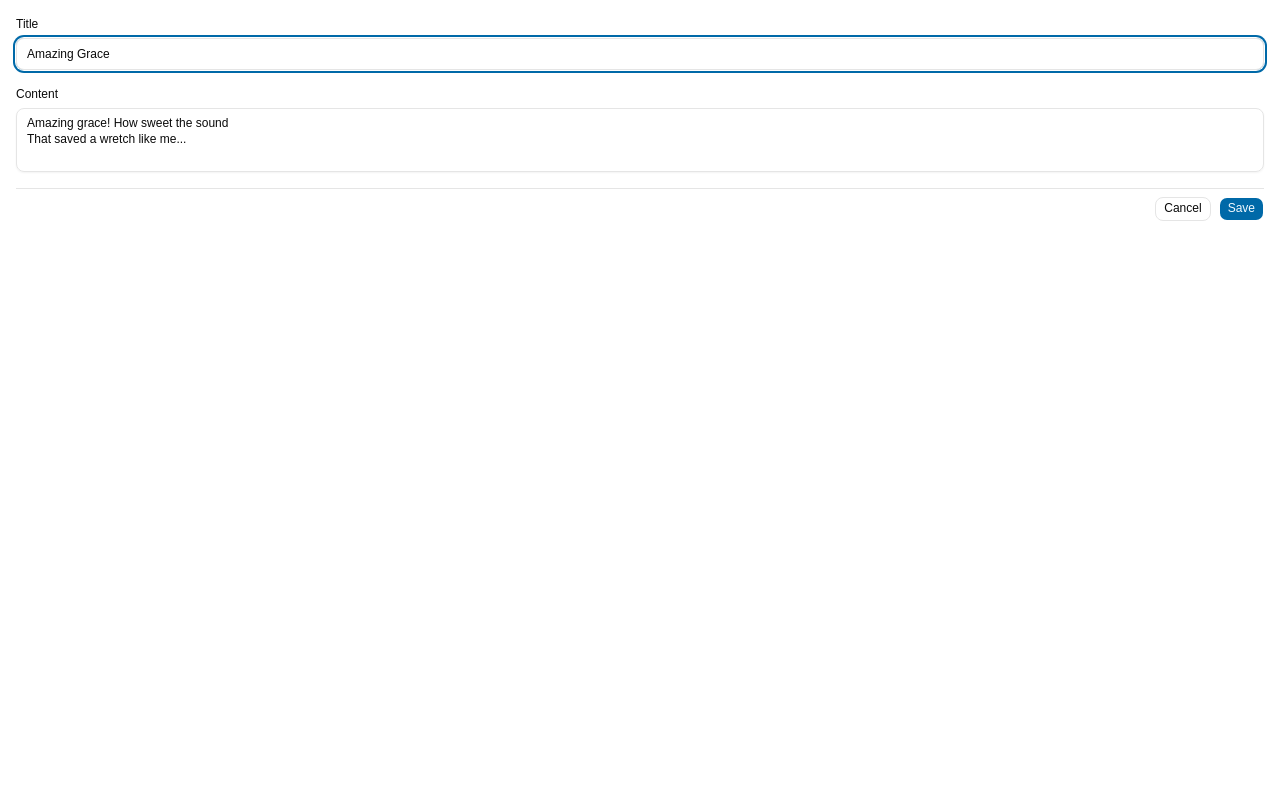
Test: PlaylistItemEditor › pressing Escape while the discard confirmation dialog is open closes the dialog and keeps the draft
Type " modified draft" into the field labelled "Title" at (640, 54), box x1=16 y1=38 x2=1264 y2=70
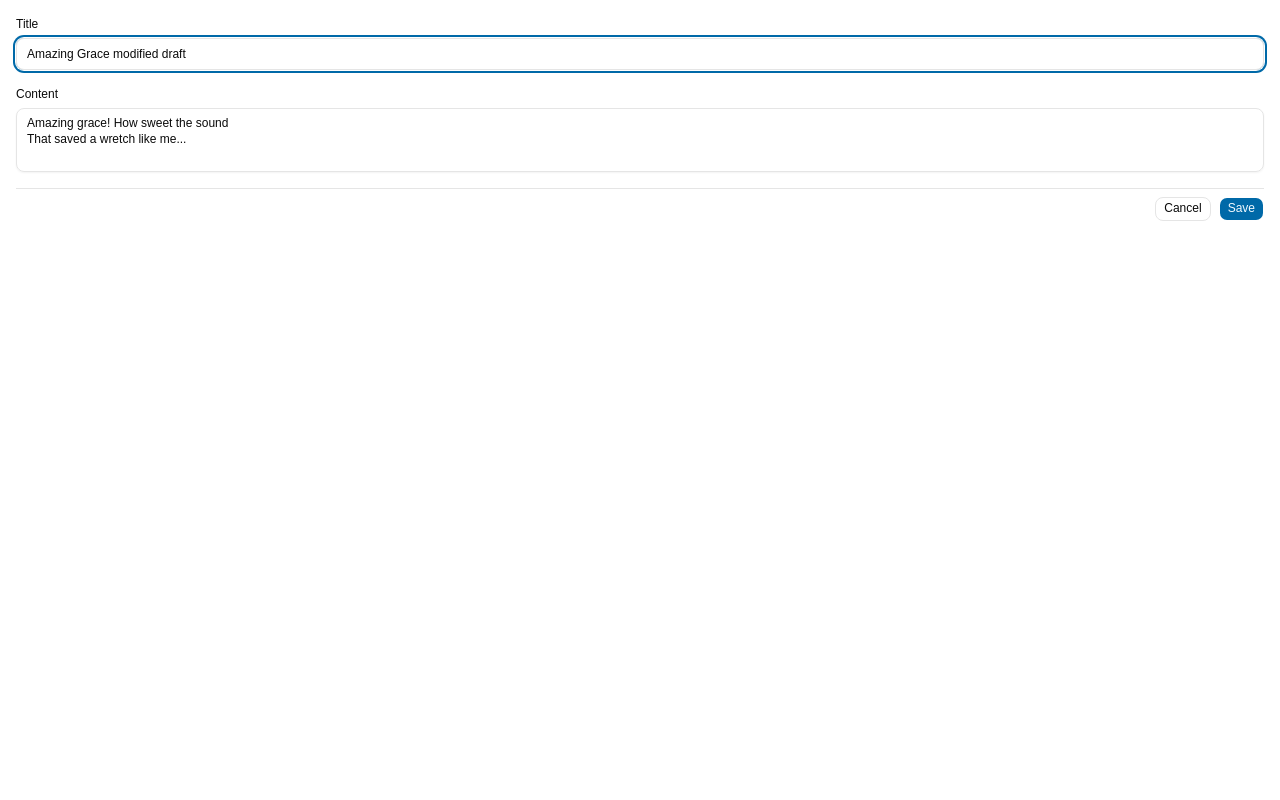
Click the button "Cancel" at (1183, 209), box x1=1155 y1=197 x2=1211 y2=221
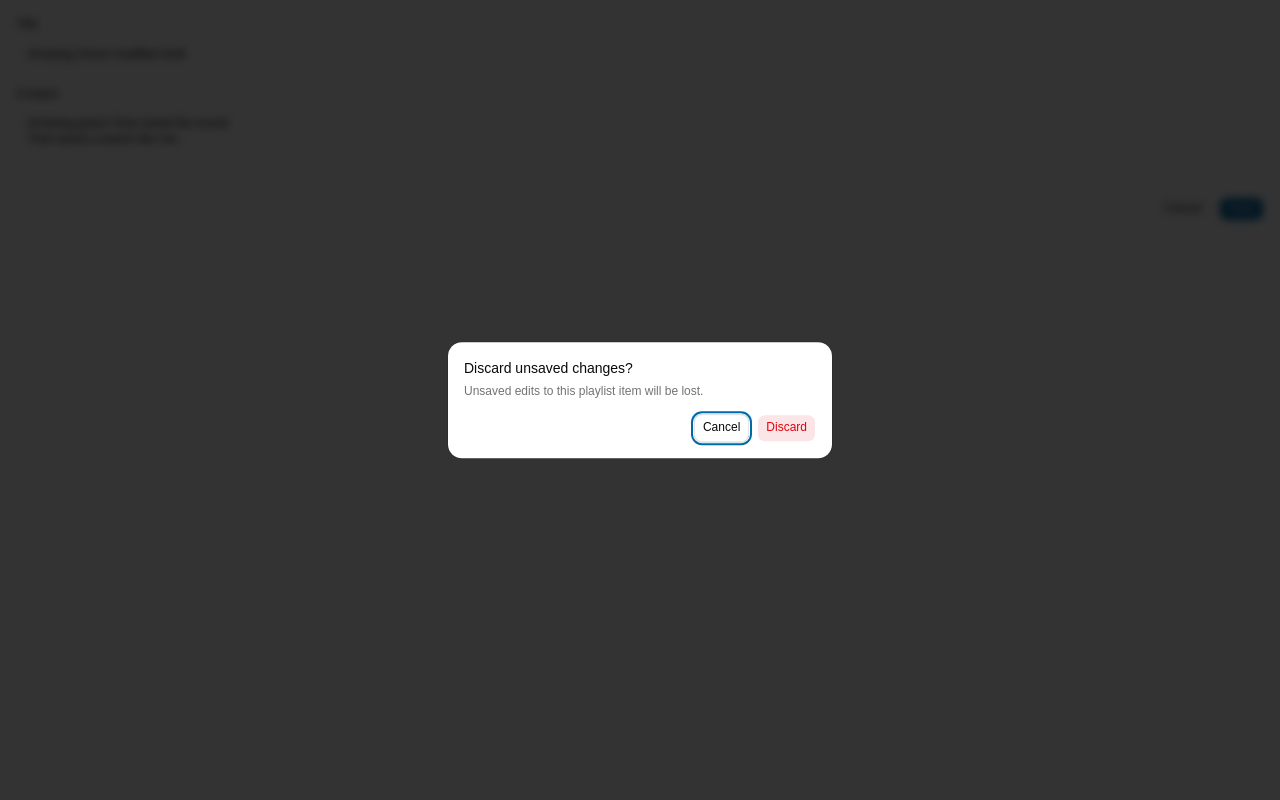
Expected: the dialog is shown, x1=448 y1=342 x2=832 y2=458
// Press Escape on the open dialog
Press Escape
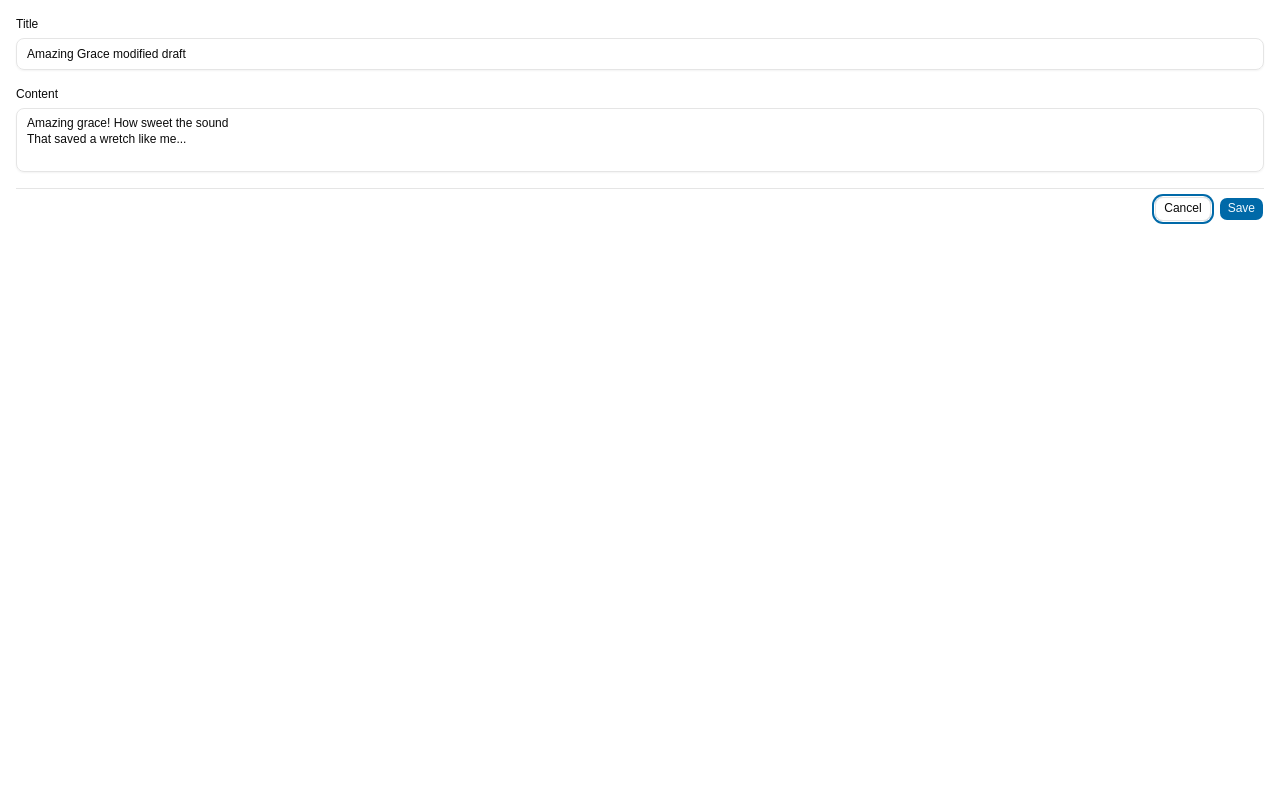
Expected: the field labelled "Title" holds "Amazing Grace modified draft", x1=16 y1=38 x2=1264 y2=70
Expected: the dialog is gone
